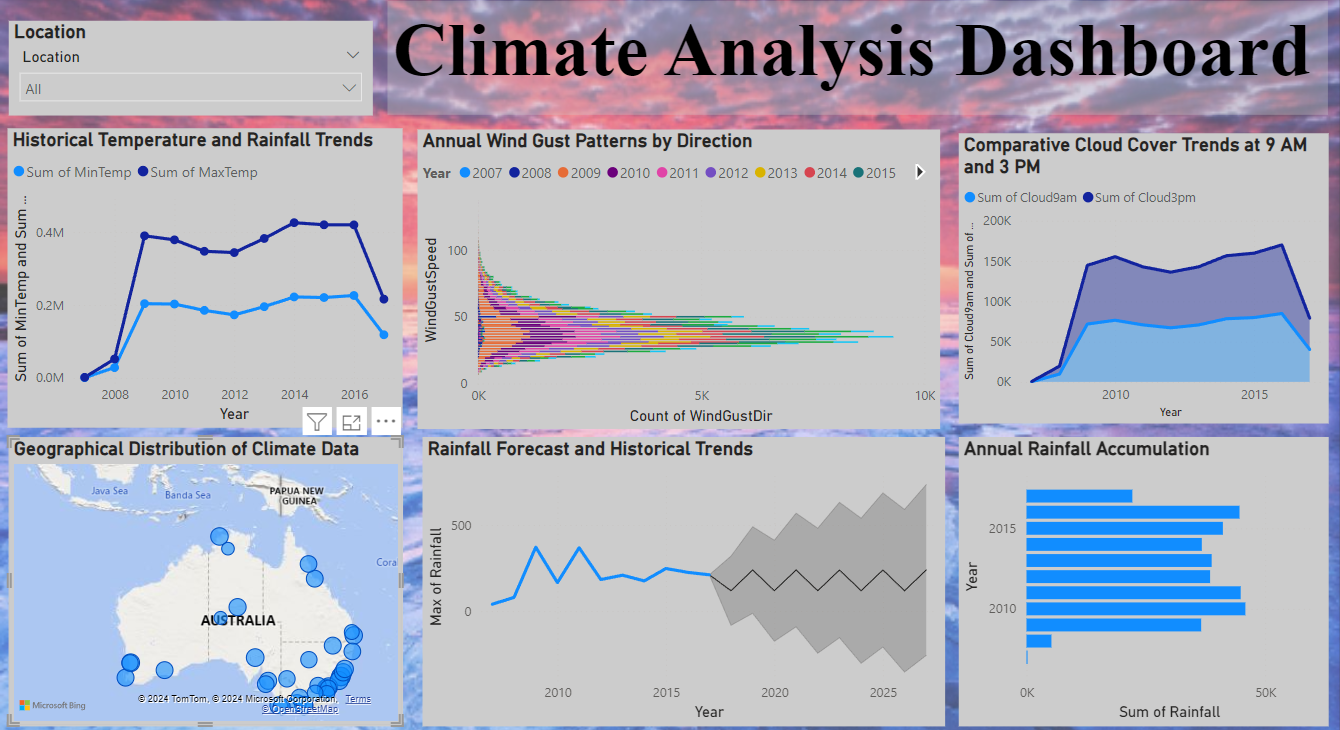

This screenshot's page, from the dashboard's own definition file:
{"tool":"powerbi","page":{"name":"Page 1","canvas":[1280,720],"ordinal":0},"visuals":[{"type":"lineChart","title":"Historical Temperature and Rainfall Trends","fields":{"Category":["cleaned_weather_data.Date.Variation.Date Hierarchy.Year","cleaned_weather_data.Date.Variation.Date Hierarchy.Quarter","cleaned_weather_data.Date.Variation.Date Hierarchy.Month"],"Y":["Sum(cleaned_weather_data.MinTemp)","Sum(cleaned_weather_data.MaxTemp)"]},"box":[7.1,144.3,377.1,285.7],"z":0},{"type":"map","title":"Geographical Distribution of Climate Data","fields":{"Category":["cleaned_weather_data.Location"],"Size":["Sum(cleaned_weather_data.WindGustSpeed)"]},"box":[8.6,438.6,375.7,275.7],"z":1000},{"type":"barChart","title":"Annual Wind Gust Patterns by Direction","fields":{"Y":["CountNonNull(cleaned_weather_data.WindGustDir)"],"Category":["cleaned_weather_data.WindGustSpeed"],"Series":["cleaned_weather_data.Date.Variation.Date Hierarchy.Year"]},"box":[398.6,145.7,498.6,285.7],"z":2000},{"type":"lineChart","title":"Rainfall Forecast and Historical Trends","fields":{"Y":["Max(cleaned_weather_data.Rainfall)"],"Category":["cleaned_weather_data.Date.Variation.Date Hierarchy.Year"]},"box":[402.9,438.6,498.6,275.7],"z":3000},{"type":"slicer","title":"Location","fields":{"Values":["cleaned_weather_data.Location"]},"box":[8.6,41.4,347.1,90],"z":4000},{"type":"barChart","title":"Annual Rainfall Accumulation","fields":{"Category":["cleaned_weather_data.Date.Variation.Date Hierarchy.Year"],"Y":["Sum(cleaned_weather_data.Rainfall)"]},"box":[914.3,438.6,352.9,275.7],"z":5000},{"type":"stackedAreaChart","title":"Comparative Cloud Cover Trends at 9 AM and 3 PM","fields":{"Category":["cleaned_weather_data.Date.Variation.Date Hierarchy.Year","cleaned_weather_data.Date.Variation.Date Hierarchy.Quarter","cleaned_weather_data.Date.Variation.Date Hierarchy.Month","cleaned_weather_data.Date.Variation.Date Hierarchy.Day"],"Y":["Sum(cleaned_weather_data.Cloud9am)","Sum(cleaned_weather_data.Cloud3pm)"]},"box":[914.3,148.6,352.9,277.1],"z":6000},{"type":"textbox","box":[370,22.9,897.1,108.6],"z":7000}]}

Visuals, with their boxes in screenshot pixels (x1, y1, x2, y2):
"Historical Temperature and Rainfall Trends" lineChart: Rect(21, 142, 412, 438)
"Geographical Distribution of Climate Data" map: Rect(23, 447, 412, 729)
"Annual Wind Gust Patterns by Direction" barChart: Rect(427, 144, 943, 440)
"Rainfall Forecast and Historical Trends" lineChart: Rect(431, 447, 948, 729)
"Location" slicer: Rect(23, 36, 382, 129)
"Annual Rainfall Accumulation" barChart: Rect(961, 447, 1326, 729)
"Comparative Cloud Cover Trends at 9 AM and 3 PM" stackedAreaChart: Rect(961, 147, 1326, 434)
textbox: Rect(397, 17, 1326, 129)
